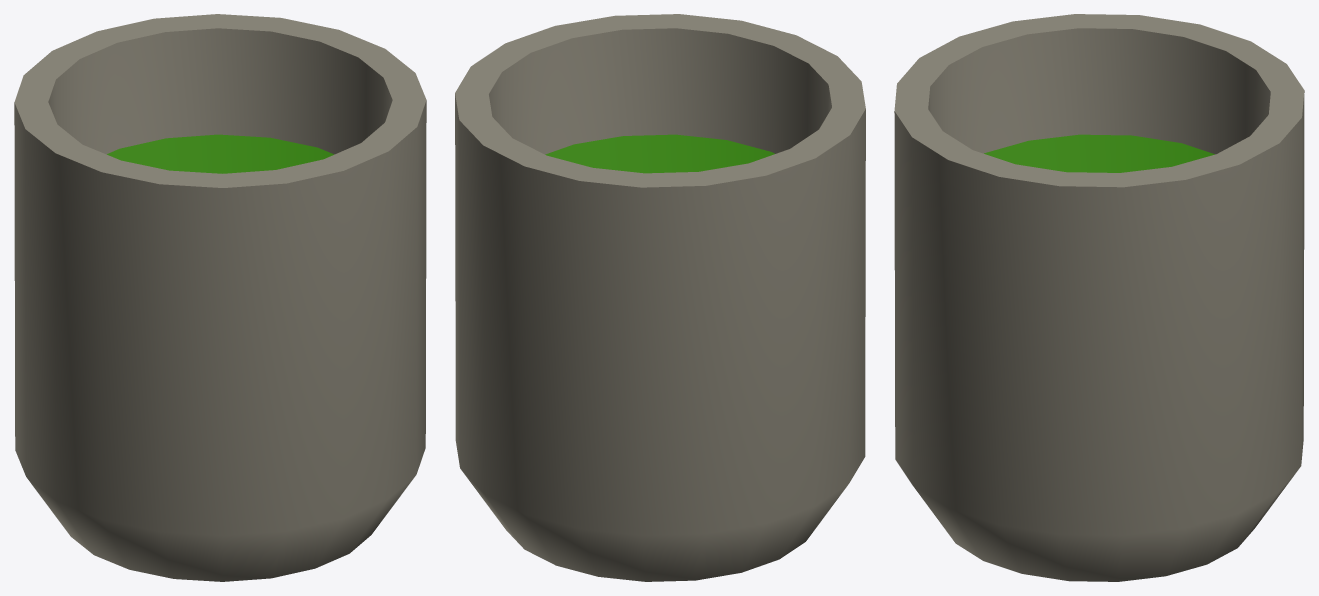
Rendered from greentea.glb.
3 views of the same model, side by side, from view 1: azimuth 30°, elevation 25°; view 2: azimuth 150°, elevation 25°; view 3: azimuth 270°, elevation 25° (orthographic).
Parts seen in each view (by area): view 1: greenTea; view 2: greenTea; view 3: greenTea.
Part boxes in pixels (<box>): greenTea: <box>14,14,426,581</box>; greenTea: <box>455,14,865,581</box>; greenTea: <box>894,14,1304,581</box>.
Size of the model in its own units: 0.0115 by 0.013 by 0.0115.
